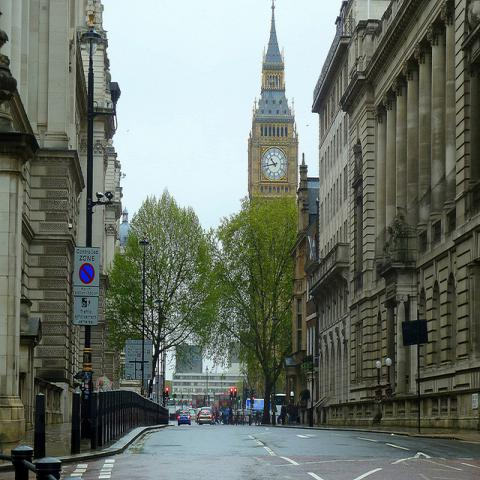bus: (275, 394, 286, 416), (218, 394, 231, 412), (192, 394, 206, 408)
car: (198, 409, 212, 426), (178, 411, 192, 426)
